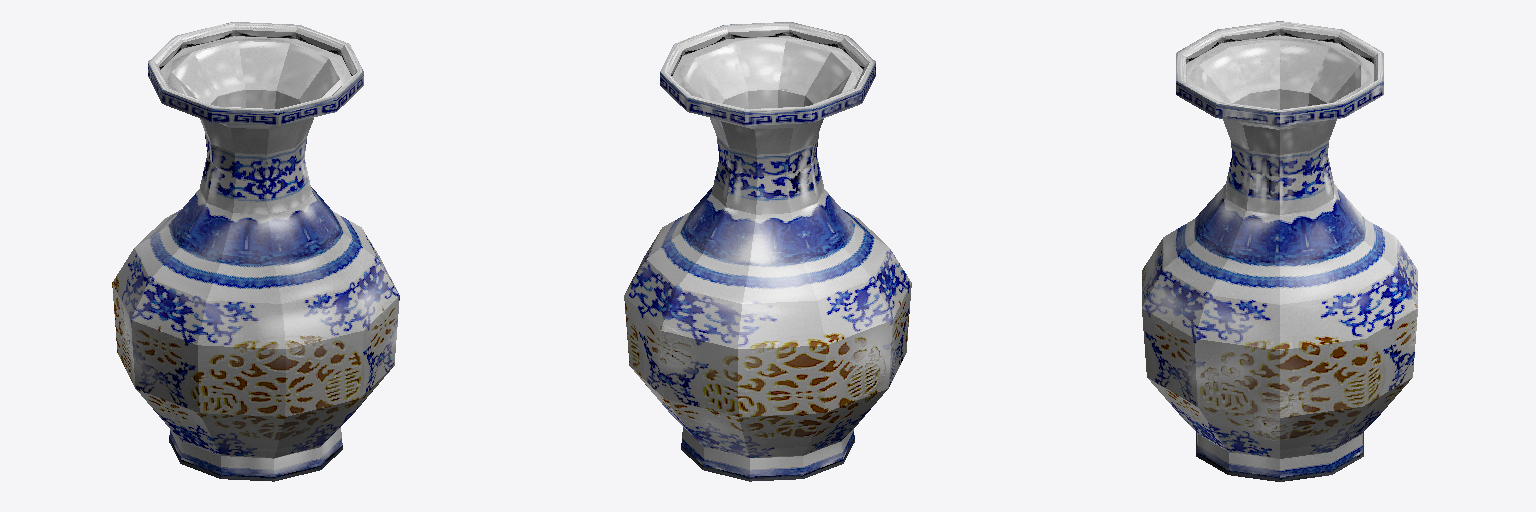
3 renders of one model, left to right at view 1: azimuth 30°, elevation 25°; view 2: azimuth 150°, elevation 25°; view 3: azimuth 270°, elevation 25°, orthographic.
Parts seen in each view (by area): view 1: polySurface2 HSM0041:Base_Low; view 2: polySurface2 HSM0041:Base_Low; view 3: polySurface2 HSM0041:Base_Low.
Boxes of the visible parts, x1=… form: polySurface2 HSM0041:Base_Low: x1=112, y1=22, x2=399, y2=481; polySurface2 HSM0041:Base_Low: x1=624, y1=22, x2=911, y2=481; polySurface2 HSM0041:Base_Low: x1=1142, y1=21, x2=1417, y2=481.
Bounding box in the file's own units: 21.48 × 31.06 × 20.55.
1 materials, 1 textured.